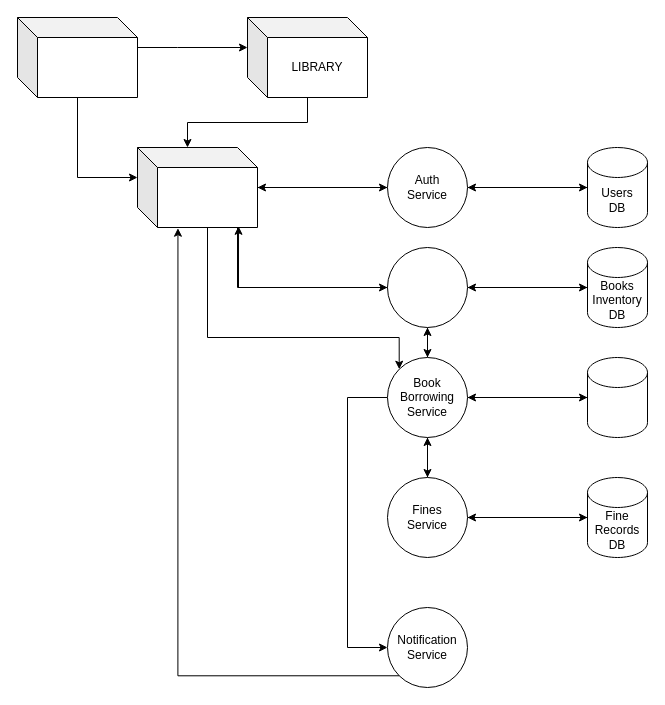
This 665x705 diagram has some shape labels left out. The shapes that lost their labels are listed below. From the top down, each one's centre as x and y in pixels, then its label:
At (77,57): "USER".
At (197,187): "WEBSITE".
At (427,287): "Book Inventory Service".
At (617,397): "Borrowed Books DB".
